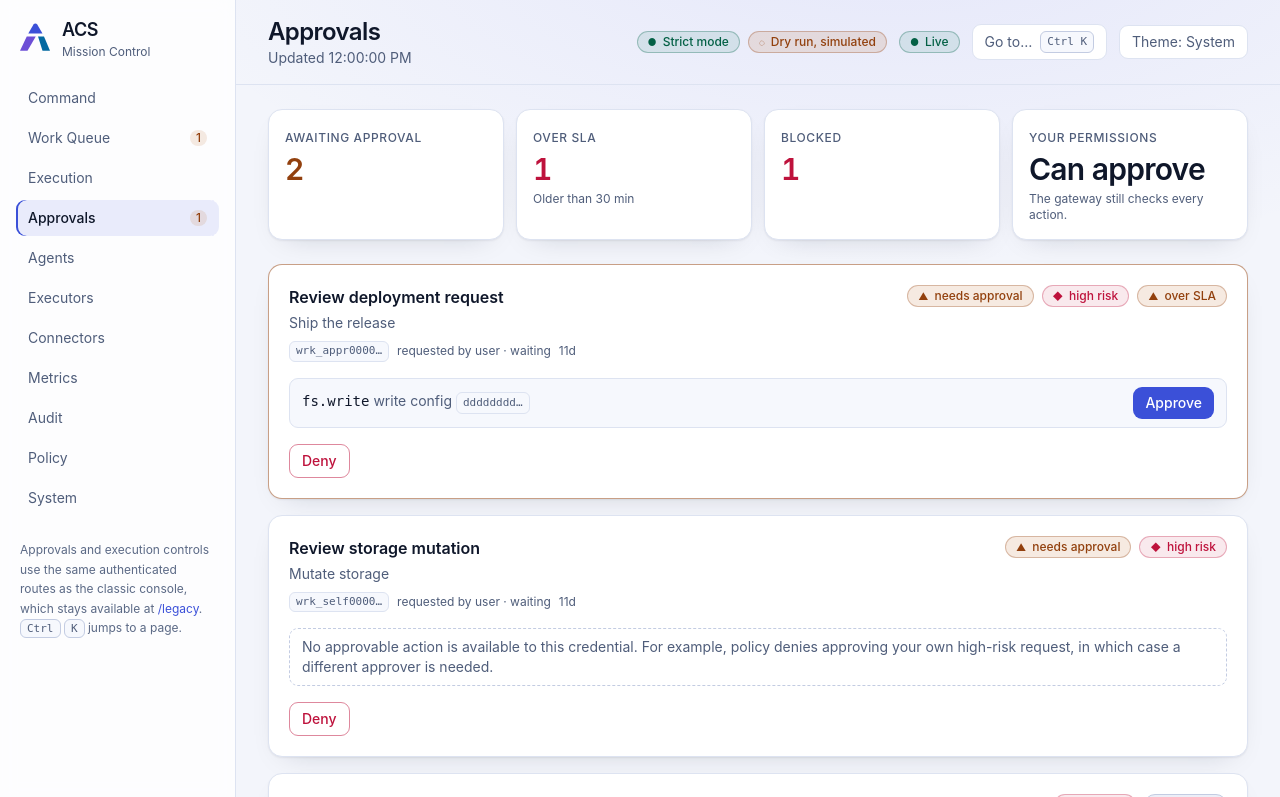
Approvals › Escape dismisses without sending anything
Click the button with aria-label "Deny Review deployment request" at coordinates (319, 461), box [289,444,350,478]
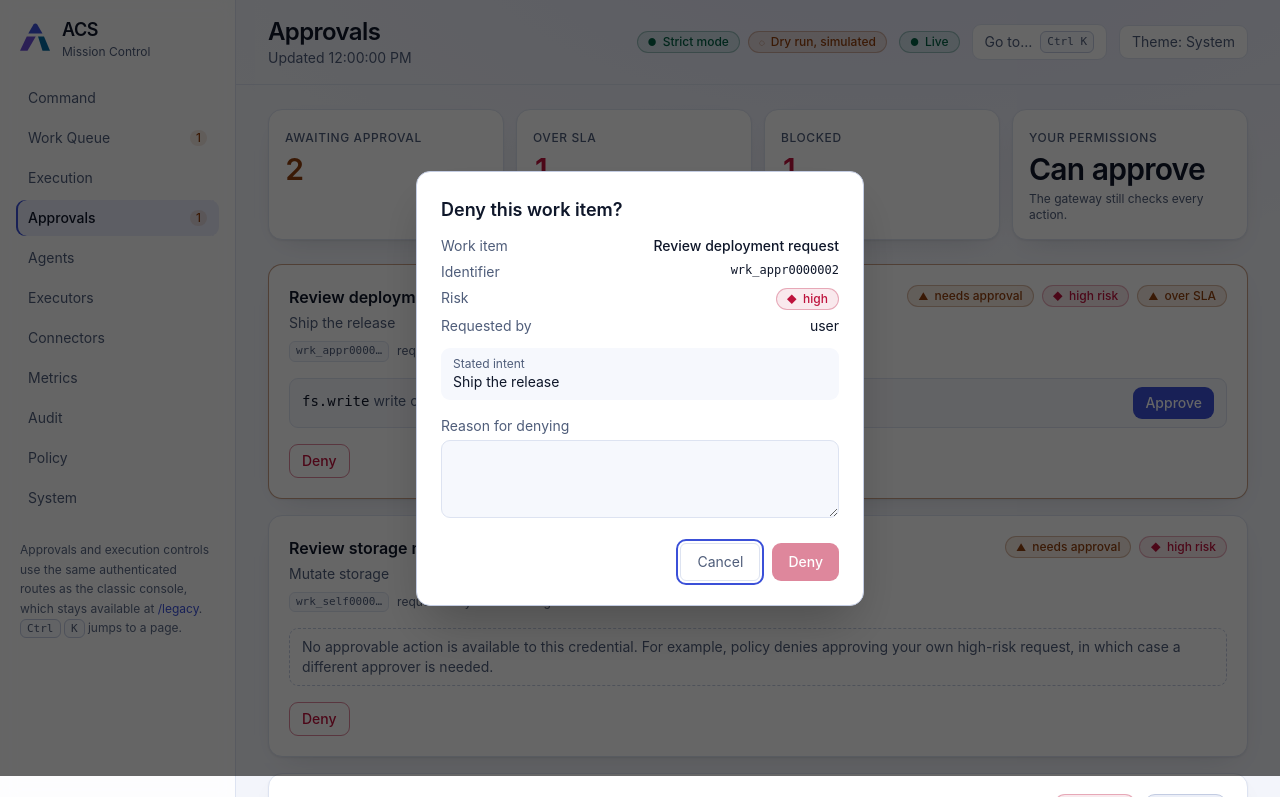
Press Escape in the dialog, box [416,170,864,606]
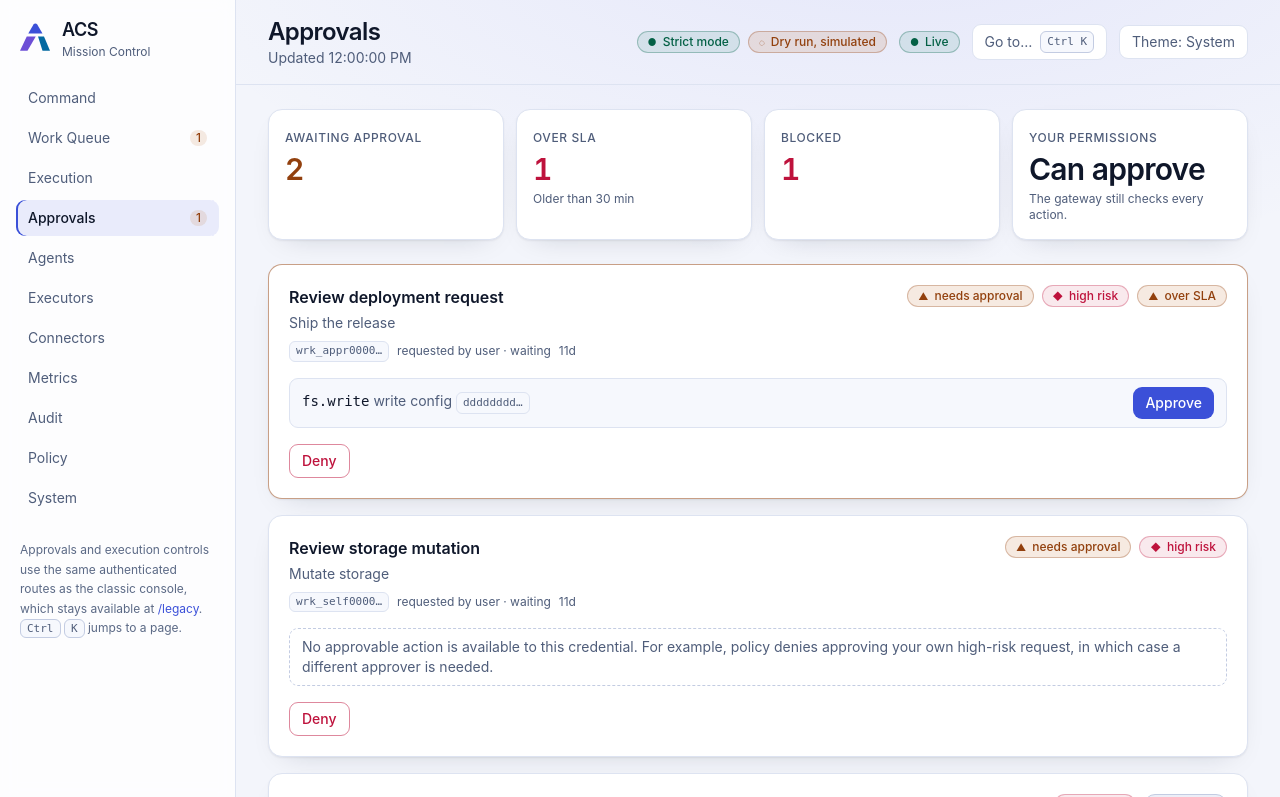
Result: the dialog is gone
